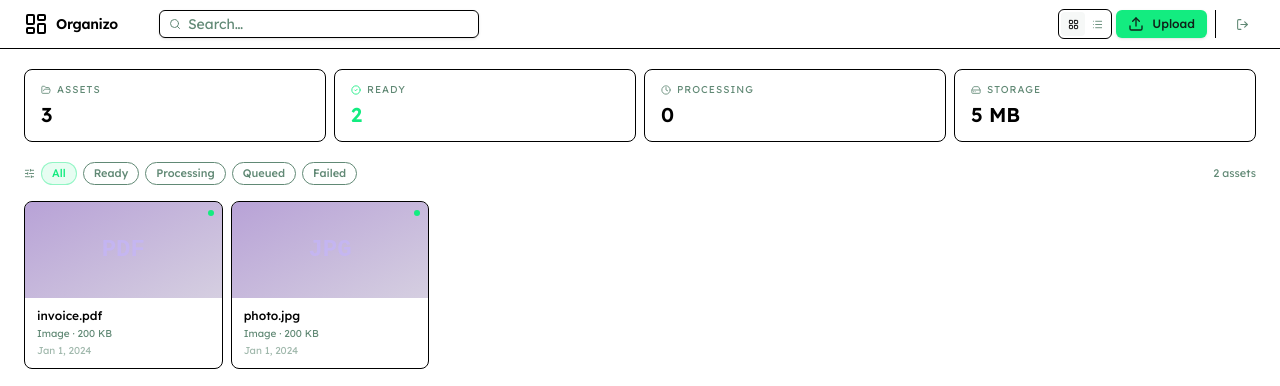
Test: Dashboard › search › filters assets by filename after the debounce
This screenshot has width=1280, height=386.
Check: the text "invoice.pdf" is shown, box [37,308,102,322]
Type "invoice" into the field with placeholder "Search…" at (319, 24), box [159,10,479,38]
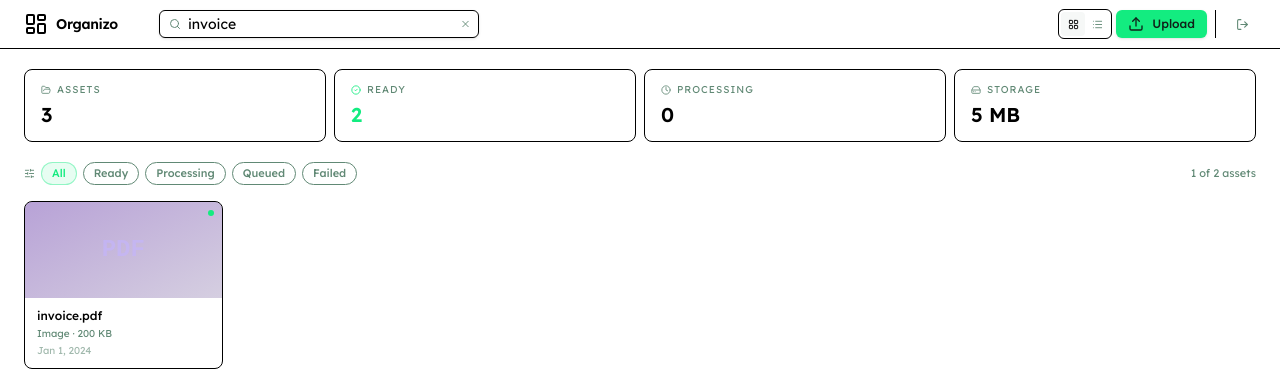
Check: the text "invoice.pdf" is shown, box [37,308,102,322]
Check: the text "photo.jpg" is gone
